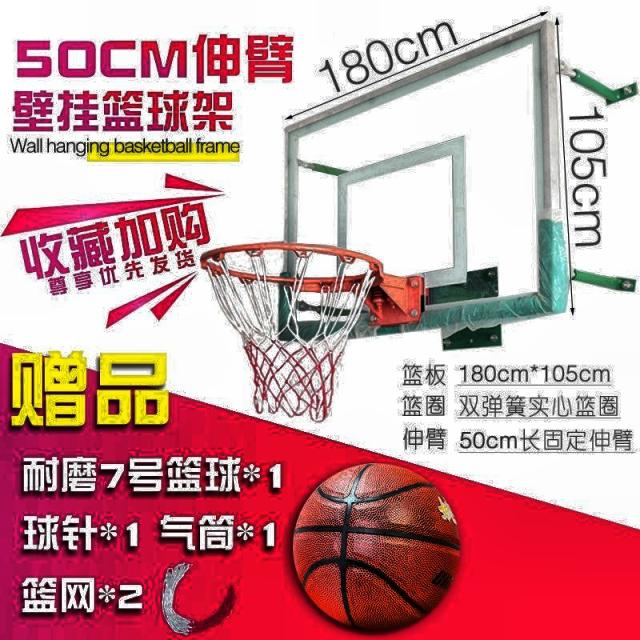board: (293, 461, 461, 634)
rim: (198, 244, 383, 425)
